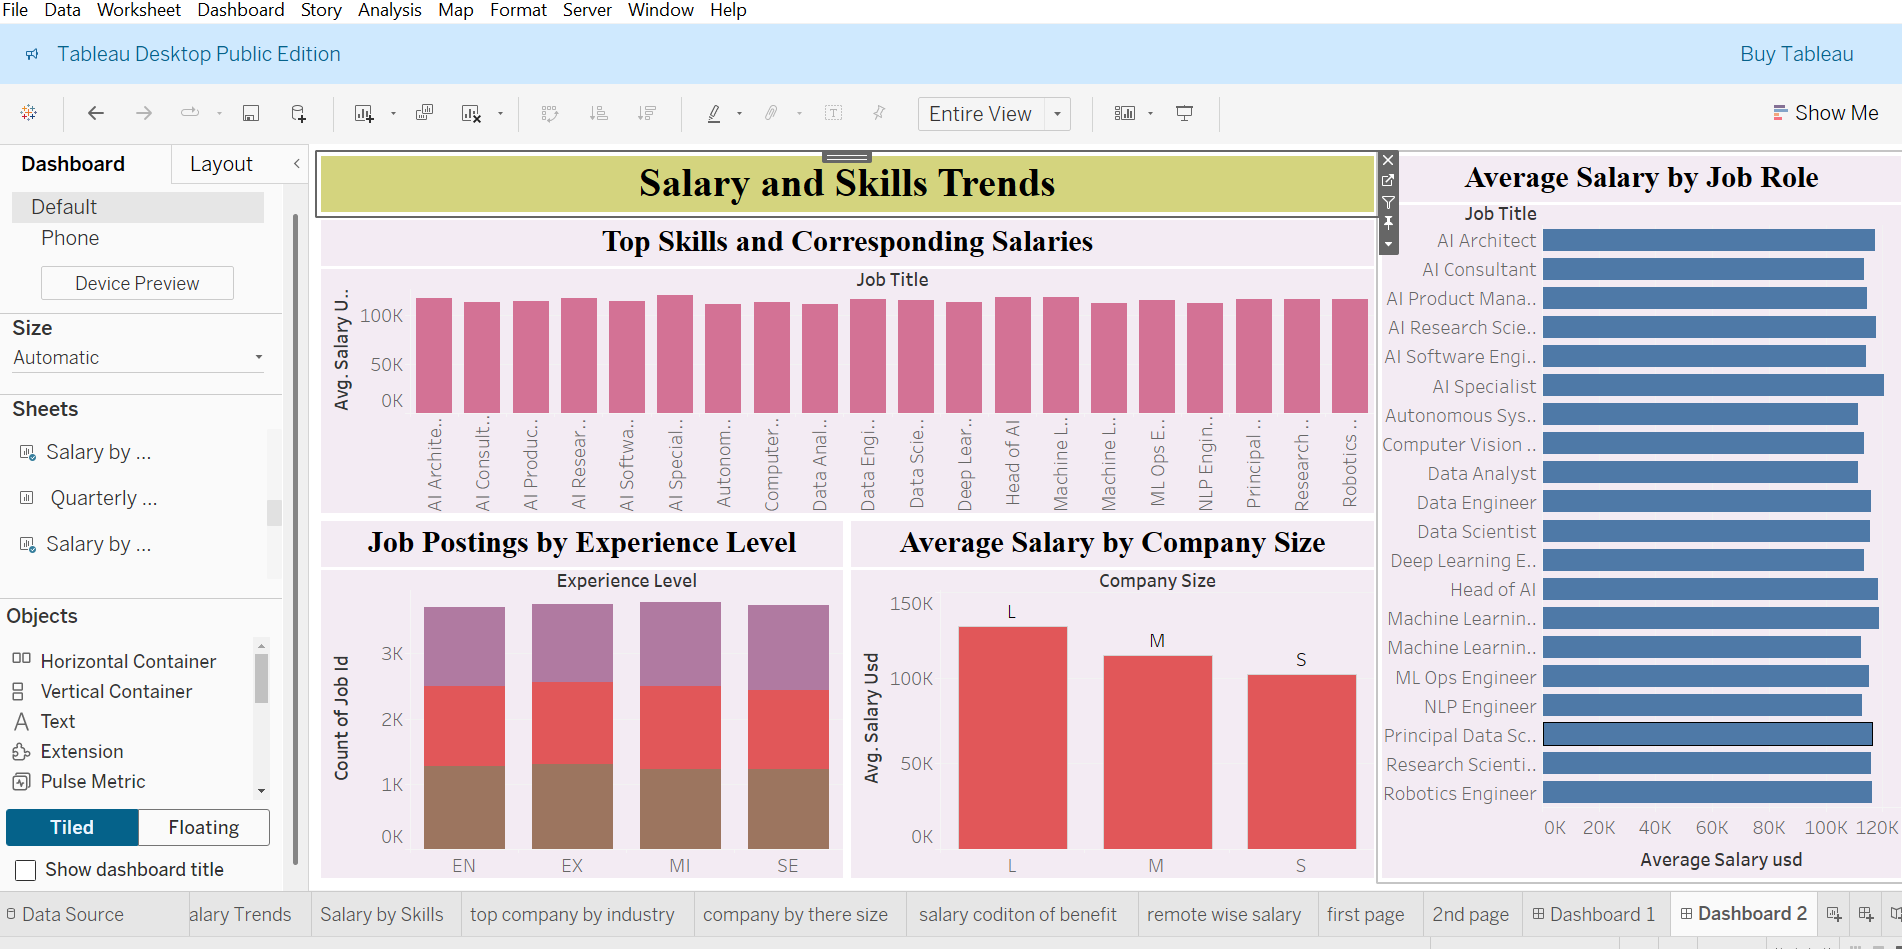

The dashboard page shown, as its layout file describes it:
{"tool":"tableau","page":{"name":"Dashboard 2","canvas":[1000,1000],"units":"permille","ordinal":1},"visuals":[{"type":"worksheet","title":"2nd page","mark":"Automatic","box":[5,10.7,661.5,85.8]},{"type":"worksheet","title":"salary by job title ","mark":"Automatic","rows":["job_title"],"cols":["Calculation_1180224611278438404"],"box":[666.5,10.7,328.6,978.6]},{"type":"worksheet","title":"Salary by Skills","mark":"Automatic","rows":["salary_usd"],"cols":["job_title"],"box":[5,96.5,661.5,403.5]},{"type":"worksheet","title":" Count of Jobs by Experience Level","mark":"Automatic","rows":["job_id"],"cols":["experience_level"],"box":[5,500,330.7,489.3]},{"type":"worksheet","title":"Salary by Company Size","mark":"Automatic","rows":["salary_usd"],"cols":["company_size"],"box":[335.7,500,330.7,489.3]}]}

Visuals, with their boxes on the dashboard's canvas, which has no fixed pixel size, in thousandths of its width and height (x1, y1, x2, y2). These are canvas units, not pixel positions in the 1902x949 screenshot, which may show the page scaled, cropped or inside an application window:
"2nd page" worksheet: x1=5, y1=11, x2=666, y2=96
"salary by job title " worksheet: x1=666, y1=11, x2=995, y2=989
"Salary by Skills" worksheet: x1=5, y1=96, x2=666, y2=500
" Count of Jobs by Experience Level" worksheet: x1=5, y1=500, x2=336, y2=989
"Salary by Company Size" worksheet: x1=336, y1=500, x2=666, y2=989
